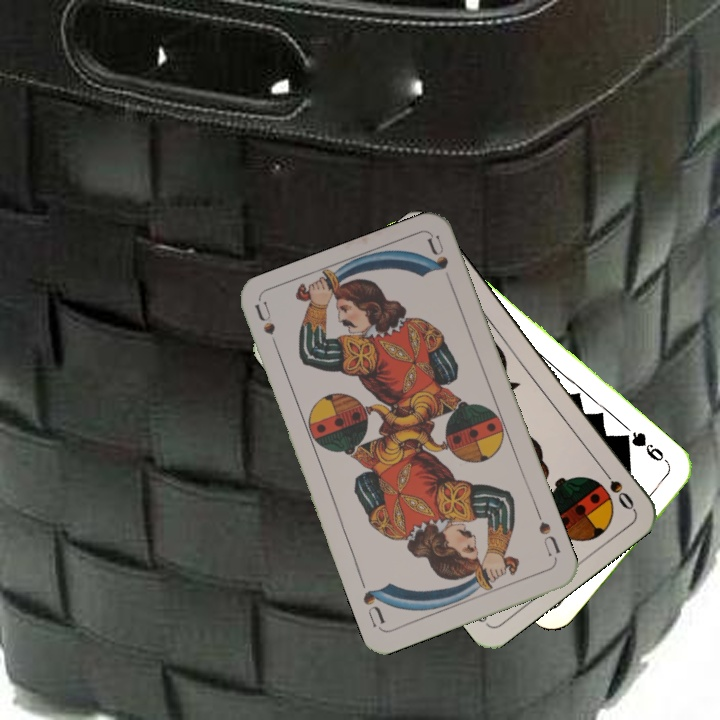G9: (621, 427, 673, 470)
SO: (595, 462, 637, 513)
SU: (251, 299, 283, 358), (532, 506, 563, 563)
